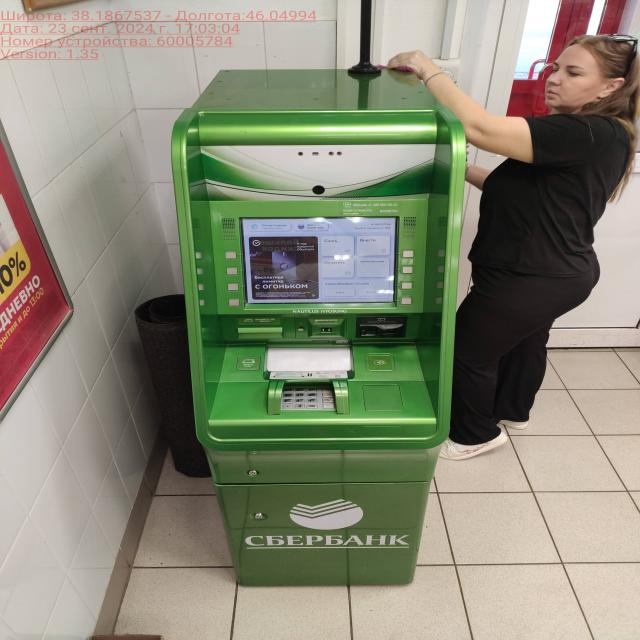bank: (168, 67, 460, 588)
